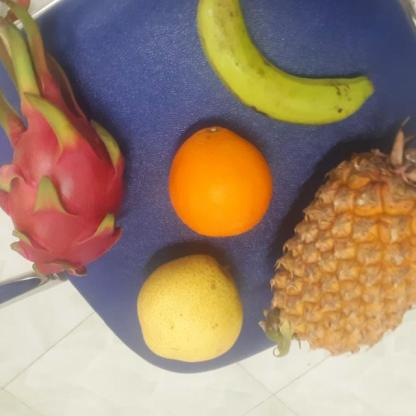banana: (195, 0, 373, 130)
orange: (163, 127, 272, 240)
pear: (134, 256, 242, 369)
pitaya: (0, 101, 124, 275)
